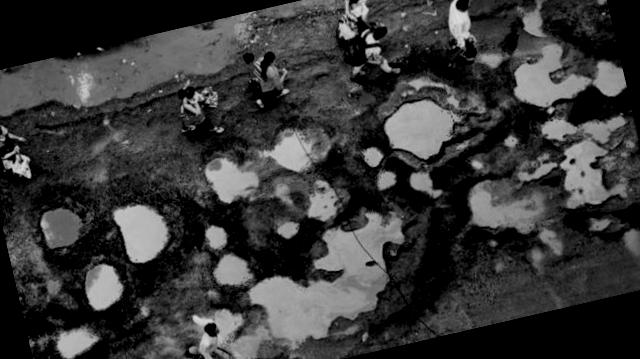Pothole: (0, 0, 538, 147), (211, 199, 436, 359), (374, 87, 476, 172), (499, 36, 597, 118), (556, 130, 638, 221), (456, 166, 548, 244), (106, 192, 180, 270), (250, 117, 331, 183), (29, 196, 100, 261), (197, 143, 265, 208), (74, 252, 138, 316), (298, 168, 352, 229), (576, 101, 638, 149), (398, 158, 449, 207), (581, 50, 628, 100), (210, 246, 255, 298), (49, 321, 110, 359), (206, 296, 250, 339), (538, 112, 588, 147), (514, 147, 564, 182), (516, 3, 554, 42), (269, 210, 303, 246), (200, 220, 234, 254), (356, 140, 389, 172), (499, 128, 528, 157), (370, 166, 401, 192), (44, 274, 64, 298)
